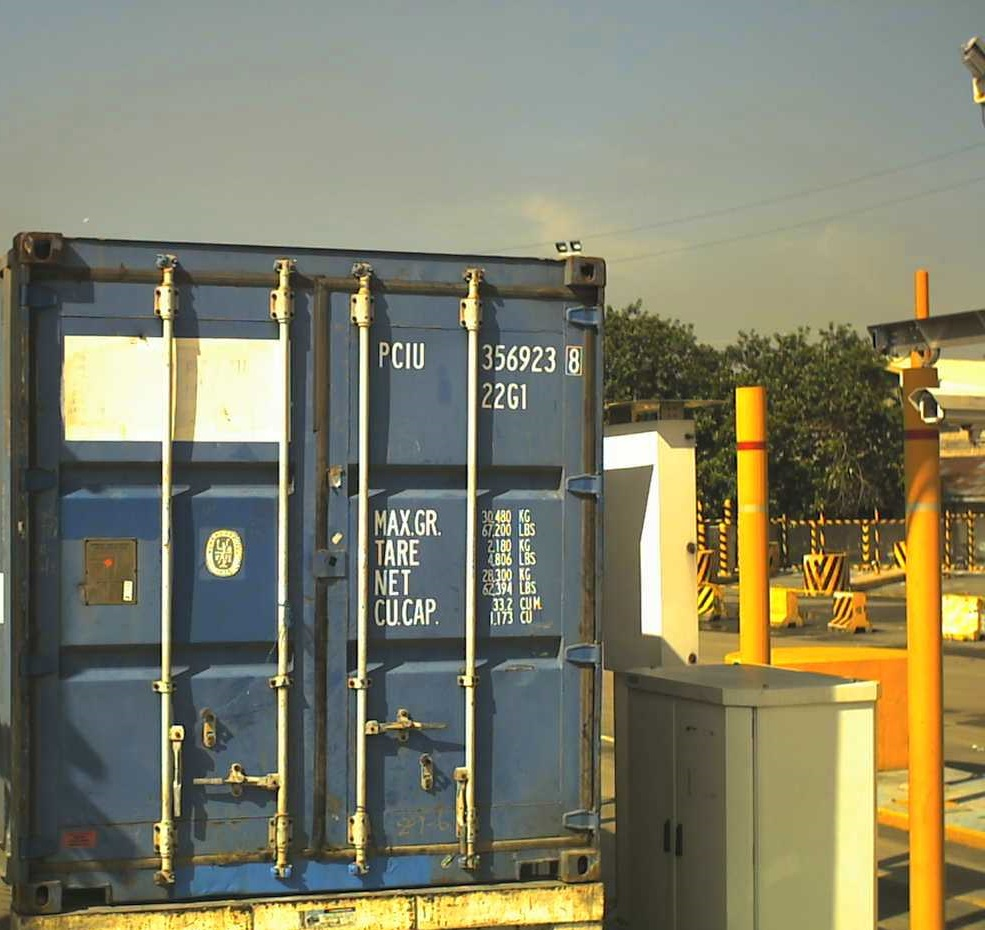container_door: (9, 227, 605, 899)
